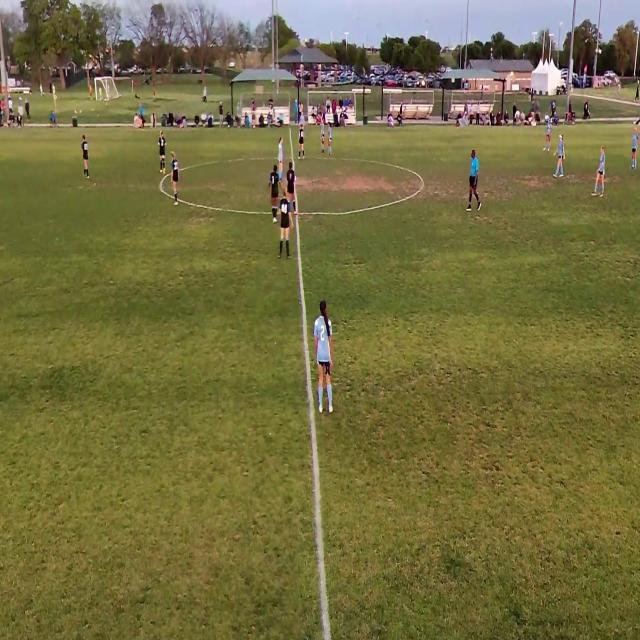ball: (294, 173, 297, 182)
team1: (277, 188, 293, 260), (267, 163, 281, 225), (287, 161, 300, 216), (171, 151, 182, 204), (159, 130, 168, 178), (82, 134, 91, 180), (299, 120, 306, 159)
team2: (311, 301, 336, 418), (597, 146, 608, 198), (276, 137, 286, 182), (556, 136, 565, 180), (630, 126, 638, 169), (327, 120, 334, 158), (546, 118, 553, 152), (321, 118, 326, 154)
